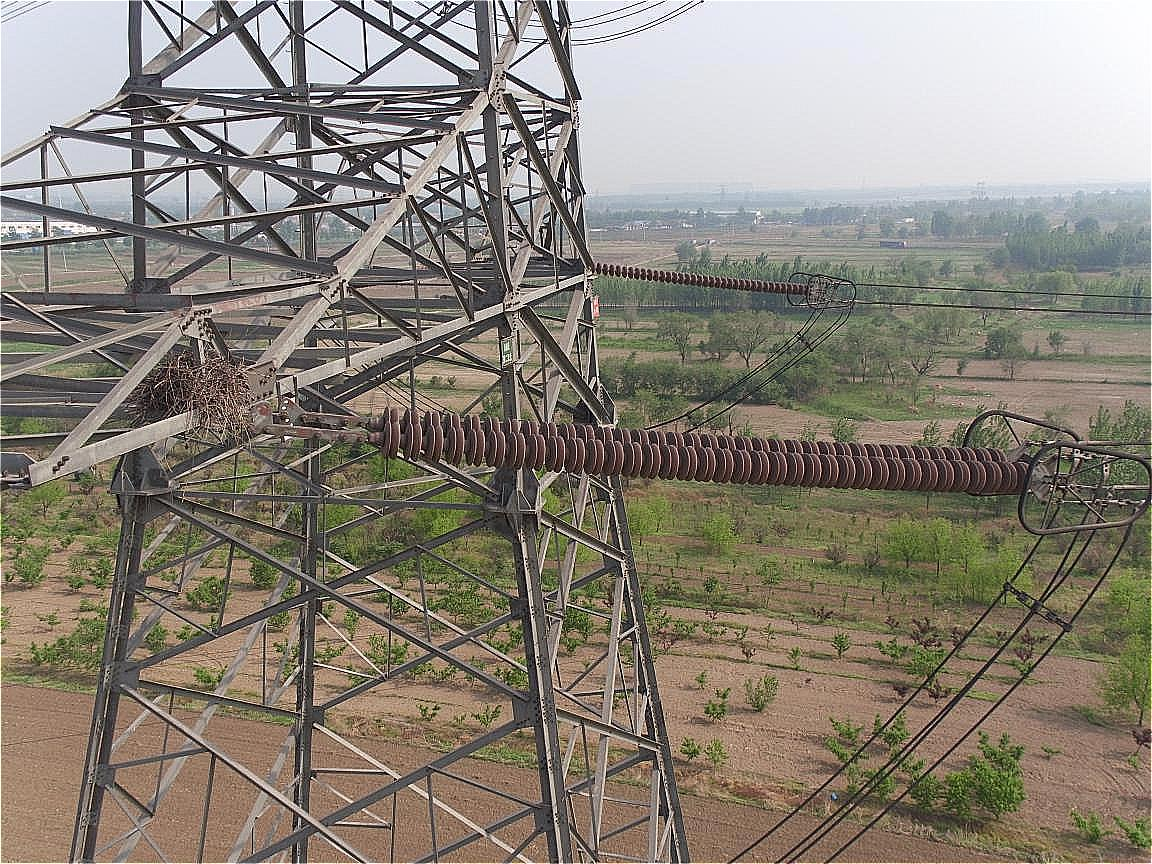insultor1: (591, 251, 830, 303)
insultor2: (362, 391, 1065, 511)
